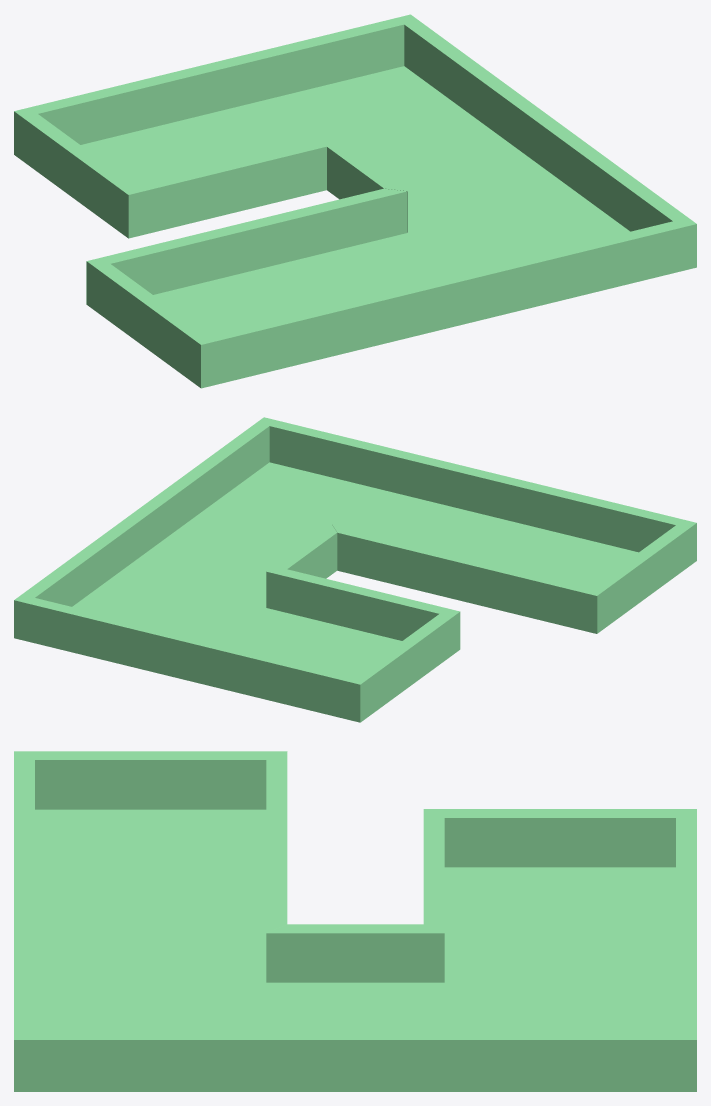
File: cubeLVL1-2.fbx
3 views of the same model, one above another, from view 1: azimuth 30°, elevation 25°; view 2: azimuth 150°, elevation 25°; view 3: azimuth 270°, elevation 25° (orthographic). The views are drawn at different scales.
Parts seen in each view (by area): view 1: CubeLVL1.001, CubeLVL1.002, CubeLVL1.009, CubeLVL1.005, CubeLVL1.004, CubeLVL1.007, CubeLVL1.003, CubeLVL1.008, CubeLVL1.006; view 2: CubeLVL1.001, CubeLVL1.002, CubeLVL1.009, CubeLVL1.004, CubeLVL1.005, CubeLVL1.007, CubeLVL1.008, CubeLVL1.003, CubeLVL1.006; view 3: CubeLVL1.001, CubeLVL1.005, CubeLVL1.003, CubeLVL1.008, CubeLVL1.006, CubeLVL1.002, CubeLVL1.009, CubeLVL1.004, CubeLVL1.007.
Boxes of the visible parts, left/top/right/bottom form: CubeLVL1.001: left=81, top=66, right=629, bottom=334; CubeLVL1.002: left=201, top=221, right=696, bottom=388; CubeLVL1.009: left=14, top=14, right=410, bottom=144; CubeLVL1.005: left=404, top=14, right=696, bottom=231; CubeLVL1.004: left=86, top=188, right=407, bottom=304; CubeLVL1.007: left=128, top=136, right=332, bottom=238; CubeLVL1.003: left=86, top=261, right=206, bottom=387; CubeLVL1.008: left=14, top=111, right=134, bottom=238; CubeLVL1.006: left=327, top=136, right=407, bottom=232; CubeLVL1.001: left=72, top=462, right=638, bottom=675; CubeLVL1.002: left=264, top=417, right=696, bottom=552; CubeLVL1.009: left=14, top=598, right=360, bottom=722; CubeLVL1.004: left=332, top=524, right=597, bottom=633; CubeLVL1.005: left=15, top=417, right=269, bottom=606; CubeLVL1.007: left=266, top=569, right=459, bottom=640; CubeLVL1.008: left=355, top=611, right=460, bottom=722; CubeLVL1.003: left=591, top=523, right=696, bottom=633; CubeLVL1.006: left=267, top=524, right=337, bottom=578; CubeLVL1.001: left=35, top=809, right=675, bottom=1030; CubeLVL1.005: left=14, top=1031, right=696, bottom=1091; CubeLVL1.003: left=15, top=751, right=286, bottom=809; CubeLVL1.008: left=424, top=809, right=696, bottom=867; CubeLVL1.006: left=266, top=924, right=444, bottom=982; CubeLVL1.002: left=14, top=751, right=34, bottom=1039; CubeLVL1.009: left=676, top=809, right=696, bottom=1039; CubeLVL1.004: left=266, top=751, right=287, bottom=932; CubeLVL1.007: left=423, top=809, right=444, bottom=932.
Size of the model in its own units: 1001 by 83.92 by 1000.
